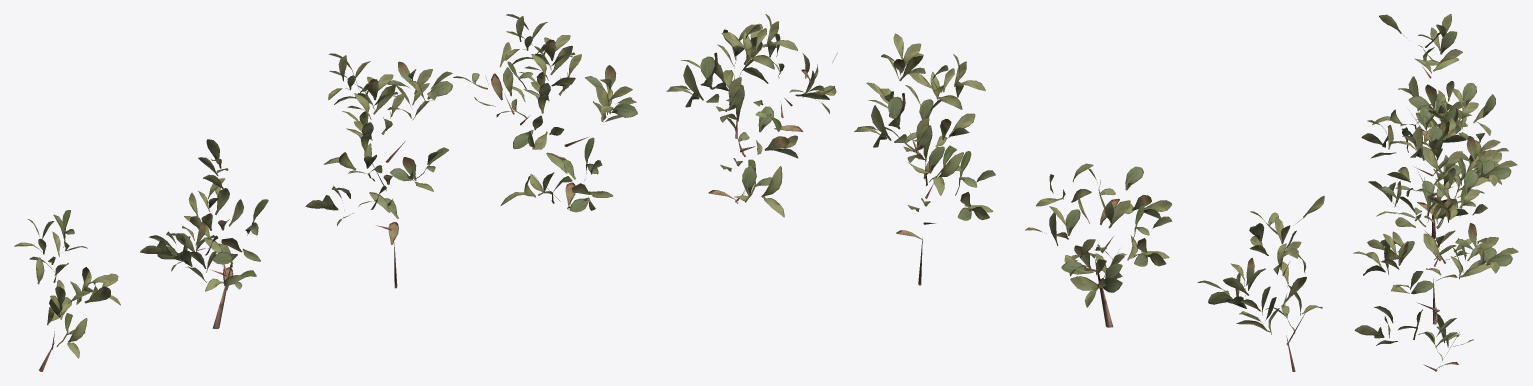
Rendered from shrub_04_lo.glb.
The picture shows the model from 3 angles, left to right: view 1: azimuth 30°, elevation 25°; view 2: azimuth 150°, elevation 25°; view 3: azimuth 270°, elevation 25°; orthographic projection. The views are drawn at different scales.
Visible parts, largest first — view 1: shrub_04; view 2: shrub_04; view 3: shrub_04.
Part boxes in pixels (x1=…): shrub_04: x1=14, y1=14, x2=637, y2=371; shrub_04: x1=666, y1=14, x2=1324, y2=371; shrub_04: x1=1353, y1=14, x2=1518, y2=371.
Size of the model in its own units: 0.5743 by 0.2192 by 0.1461.
1 material, 1 textured.
